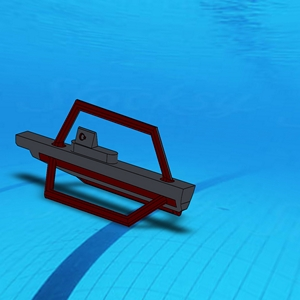submarine: (12, 95, 195, 222)
